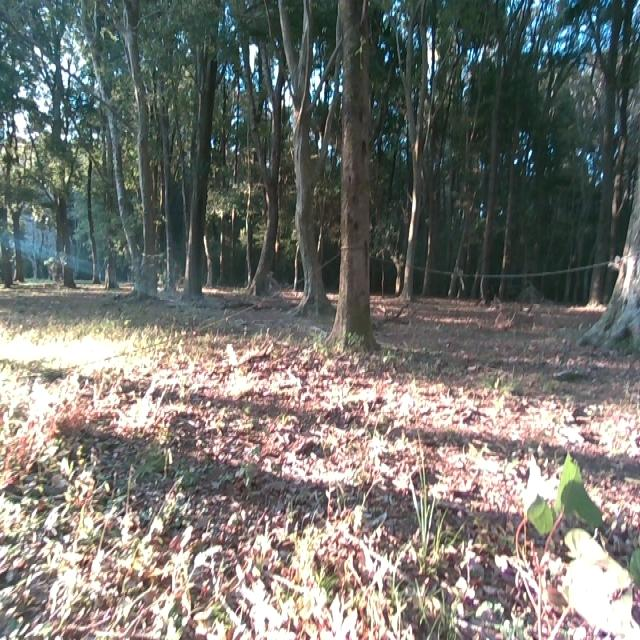tree: (333, 0, 380, 363), (116, 0, 167, 294), (287, 0, 333, 325), (389, 41, 432, 317), (581, 159, 640, 344), (181, 0, 217, 303), (259, 0, 281, 299), (49, 191, 76, 287)
